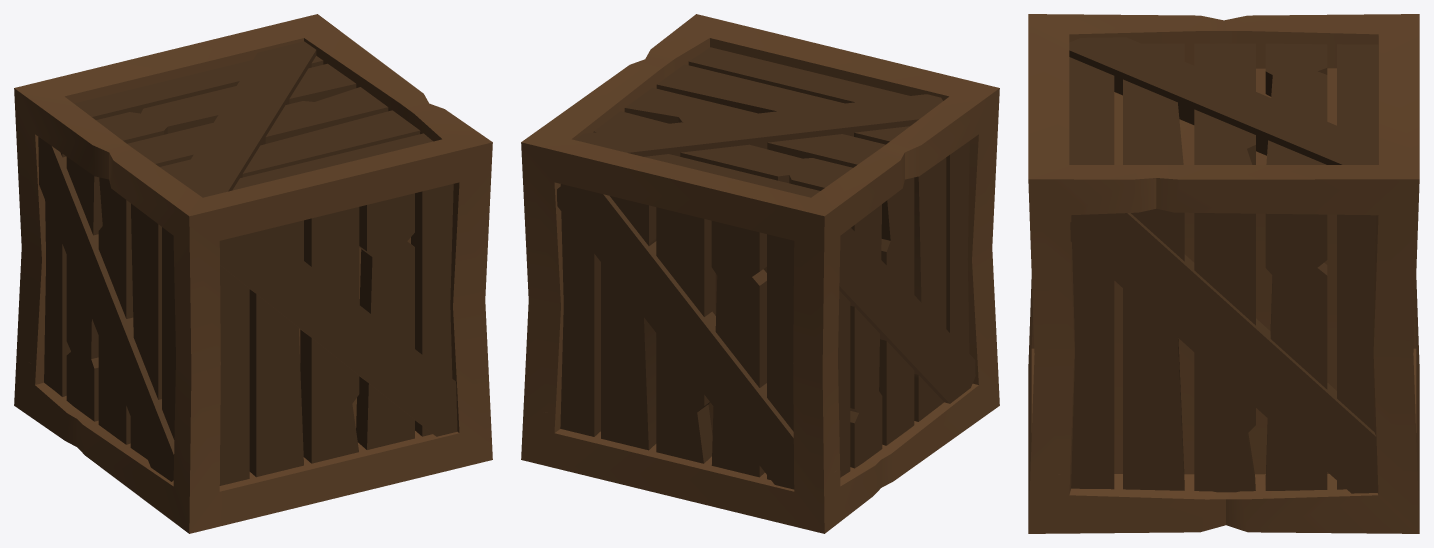
Rendered from Crate.gltf.
The picture shows the model from 3 angles, left to right: view 1: azimuth 30°, elevation 25°; view 2: azimuth 150°, elevation 25°; view 3: azimuth 270°, elevation 25°; orthographic projection. The views are drawn at different scales.
Visible parts, largest first — view 1: Crate; view 2: Crate; view 3: Crate.
Part boxes in pixels (x1,y1,x2,y2): Crate: [14, 14, 492, 533]; Crate: [521, 14, 999, 533]; Crate: [1028, 14, 1419, 533].
Size of the model in its own units: 0.1602 by 0.1602 by 0.1602.
